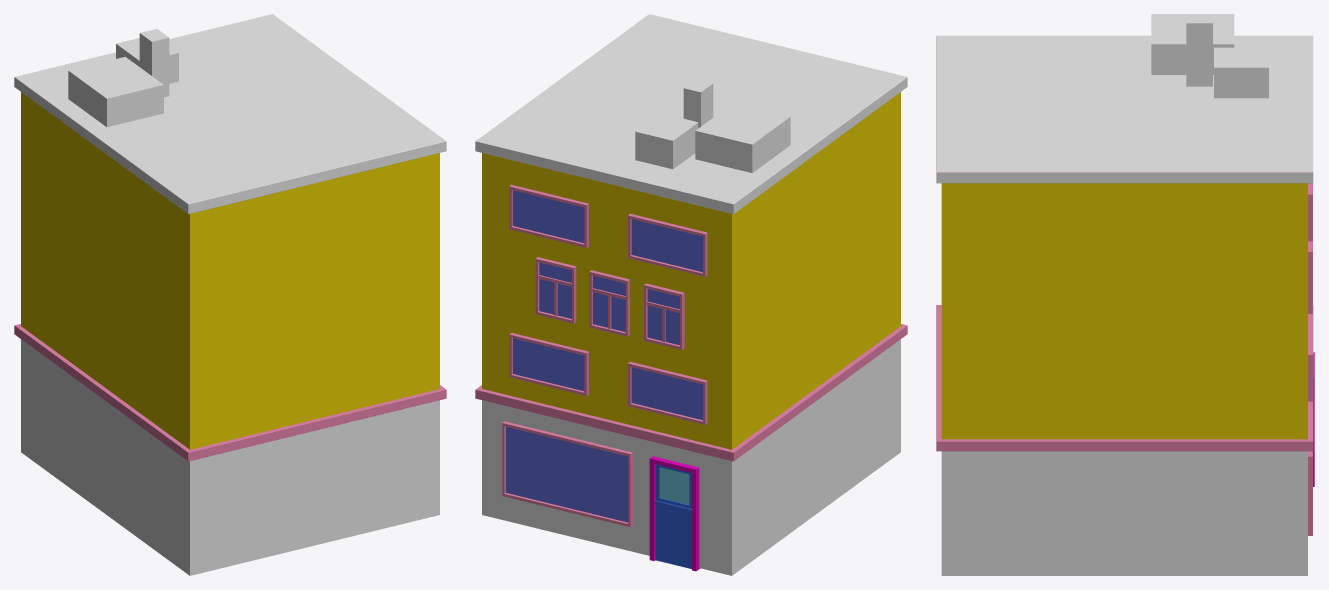
Rendered from house03.fbx.
The picture shows the model from 3 angles, left to right: view 1: azimuth 30°, elevation 25°; view 2: azimuth 150°, elevation 25°; view 3: azimuth 270°, elevation 25°; orthographic projection. The views are drawn at different scales.
Parts seen in each view (by area): view 1: Cube.054; view 2: Cube.054; view 3: Cube.054.
Part boxes in pixels (bbox=[...]): Cube.054: bbox=[14, 14, 446, 575]; Cube.054: bbox=[475, 14, 907, 575]; Cube.054: bbox=[936, 14, 1314, 575].
Size of the model in its own units: 743 by 1193 by 869.
